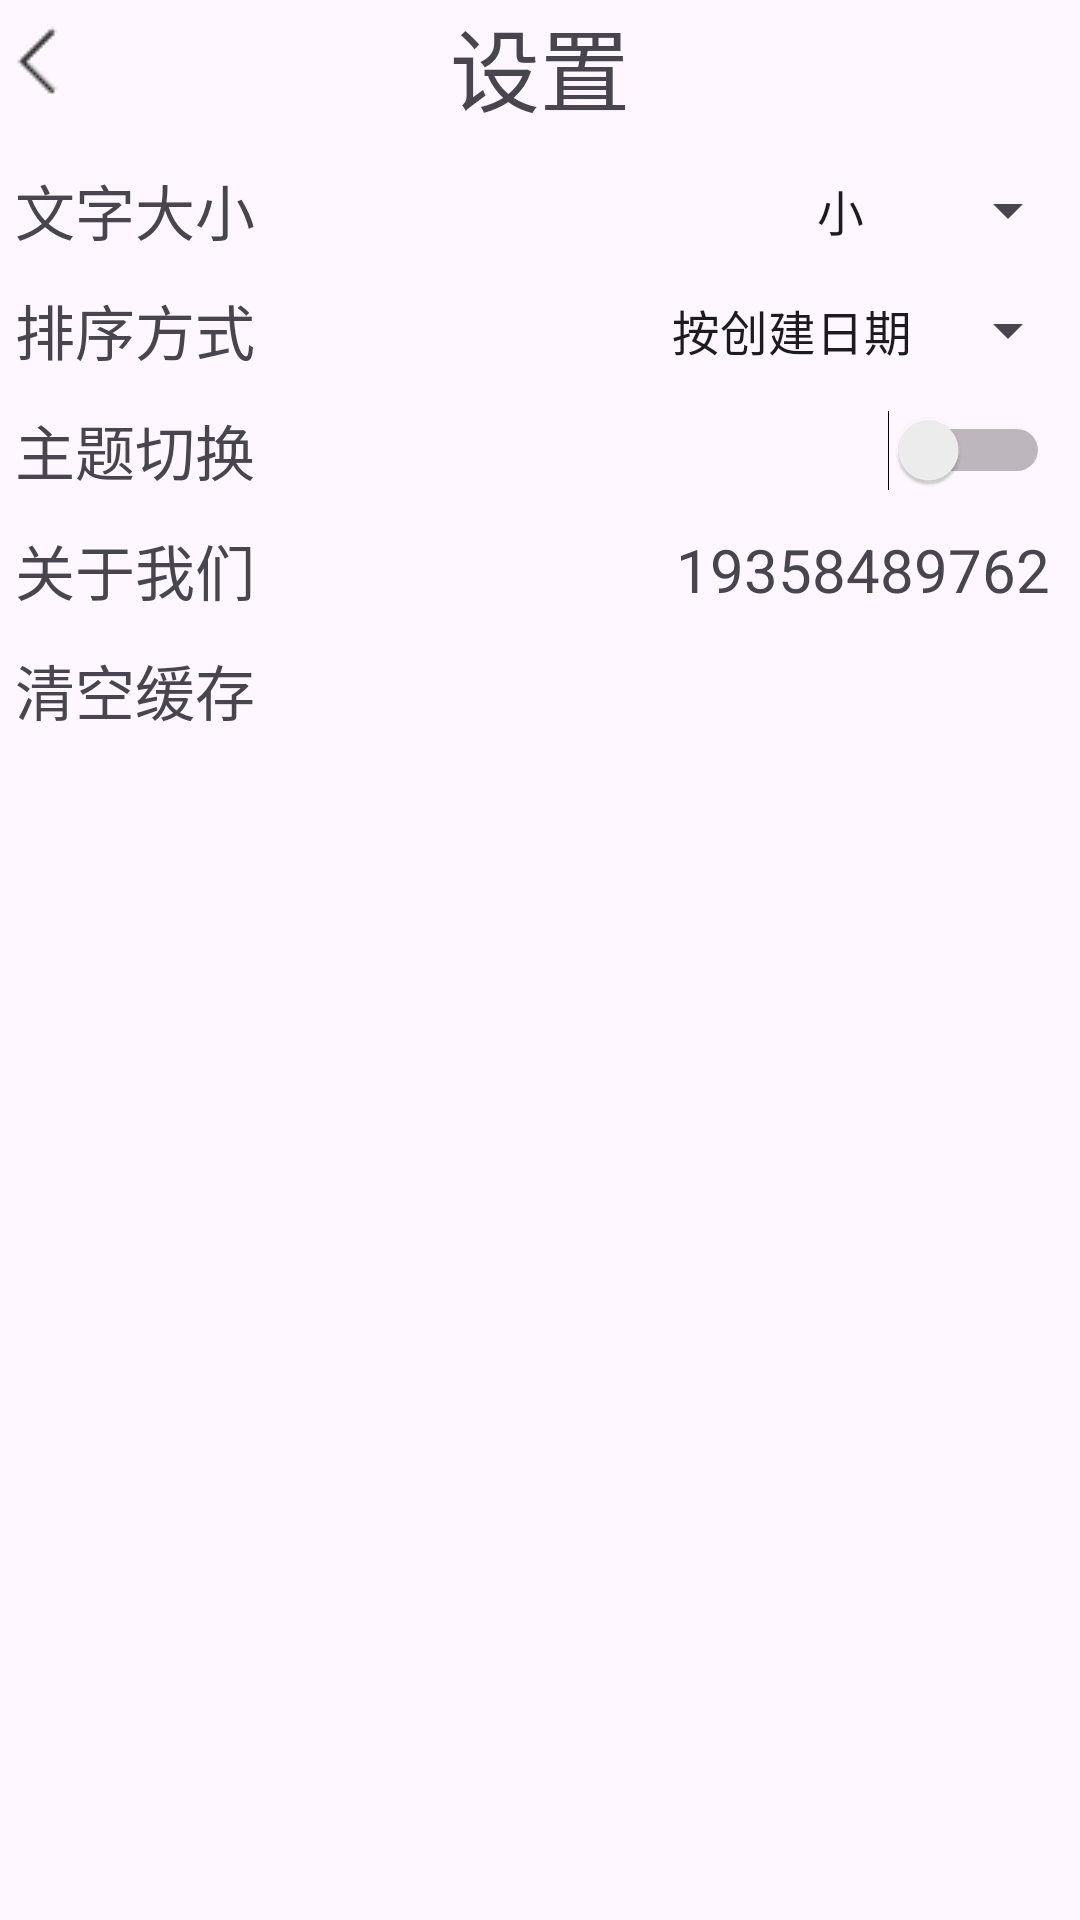

Named icons in this screenshot (1080 × 1920) and their bounding boxes, box(x1, y1, x2, y2):
back: box(17, 28, 56, 94)
